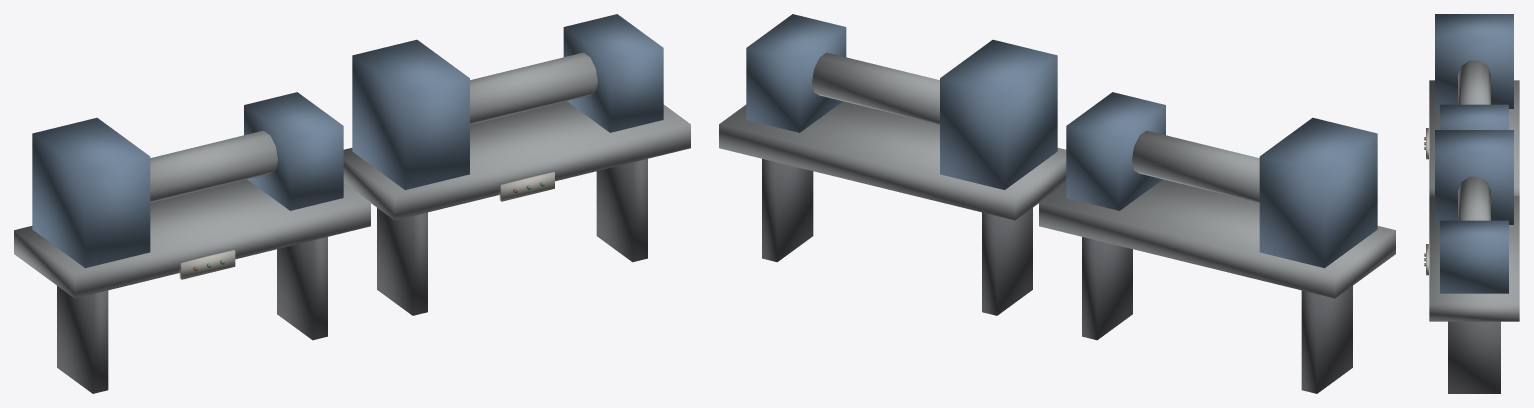
The model's file is metal_lathe_silhouette__cluster.glb.
3 renders of one model, left to right at view 1: azimuth 30°, elevation 25°; view 2: azimuth 150°, elevation 25°; view 3: azimuth 270°, elevation 25°, orthographic. The views are drawn at different scales.
Visible parts, largest first — view 1: world; view 2: world; view 3: world.
Boxes of the visible parts, left/top/right/bottom form: world: left=14, top=14, right=690, bottom=393; world: left=719, top=14, right=1395, bottom=393; world: left=1424, top=14, right=1519, bottom=393.
Size of the model in its own units: 3.22 by 1.16 by 0.581.
